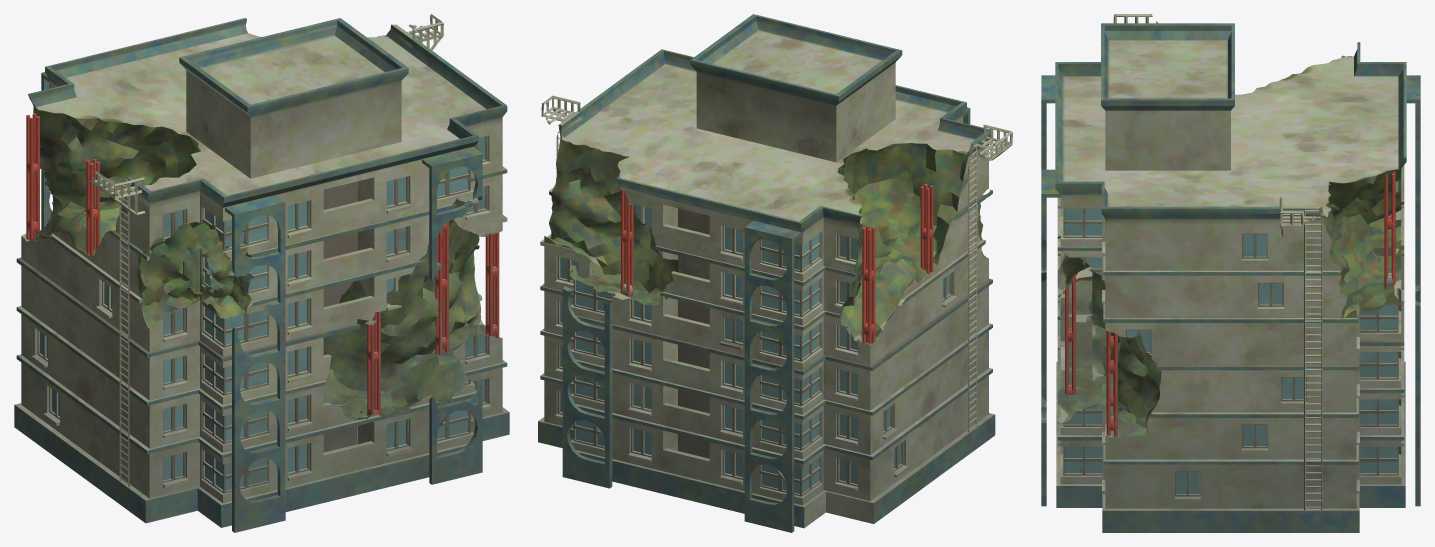
Rendered from immeuble 2 détruit+props fix.fbx.
3 views of the same model, side by side, from view 1: azimuth 30°, elevation 25°; view 2: azimuth 150°, elevation 25°; view 3: azimuth 270°, elevation 25° (orthographic). The views are drawn at different scales.
Visible parts, largest first — view 1: Cube.112; view 2: Cube.112; view 3: Cube.112.
Boxes of the visible parts, left/top/right/bottom form: Cube.112: left=14, top=14, right=509, bottom=532; Cube.112: left=538, top=14, right=1012, bottom=532; Cube.112: left=1041, top=14, right=1420, bottom=532.
Size of the model in its own units: 10596 by 9583 by 8556.
